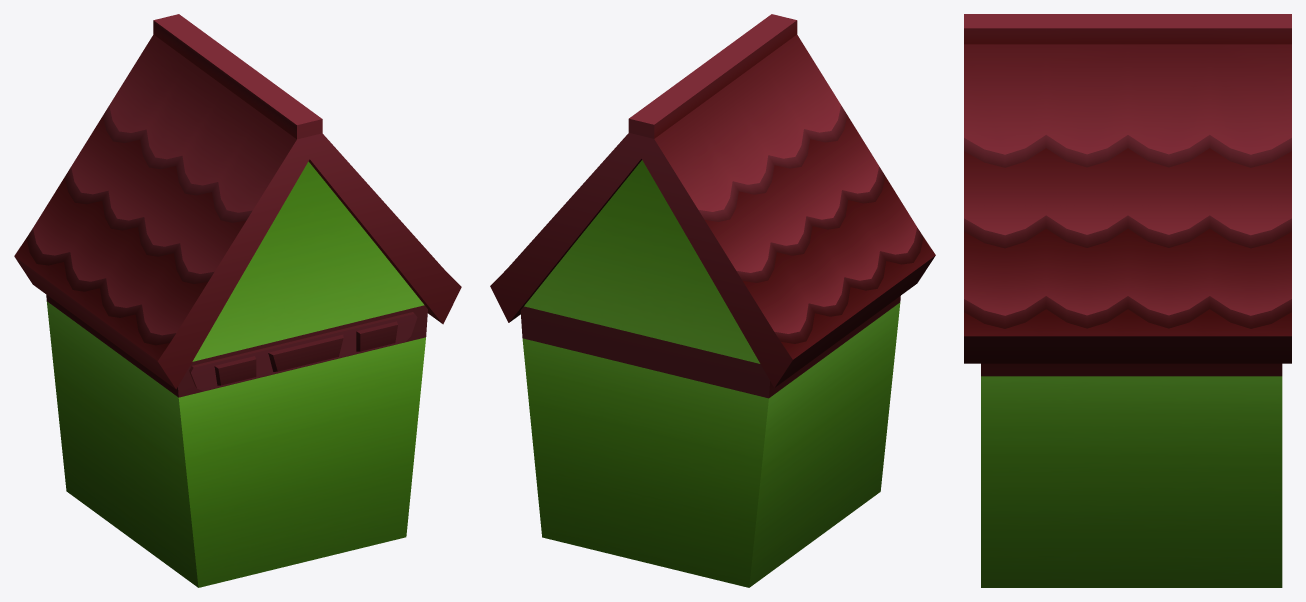
Rendered from Building_Main_02B.fbx.
The picture shows the model from 3 angles, left to right: view 1: azimuth 30°, elevation 25°; view 2: azimuth 150°, elevation 25°; view 3: azimuth 270°, elevation 25°; orthographic projection. The views are drawn at different scales.
Visible parts, largest first — view 1: Building_Main_02B; view 2: Building_Main_02B; view 3: Building_Main_02B.
Boxes of the visible parts, bbox=[...] form: Building_Main_02B: bbox=[14, 14, 461, 587]; Building_Main_02B: bbox=[490, 14, 935, 587]; Building_Main_02B: bbox=[964, 14, 1291, 587].
Size of the model in its own units: 585 by 819 by 478.
2 materials, 2 textured.
